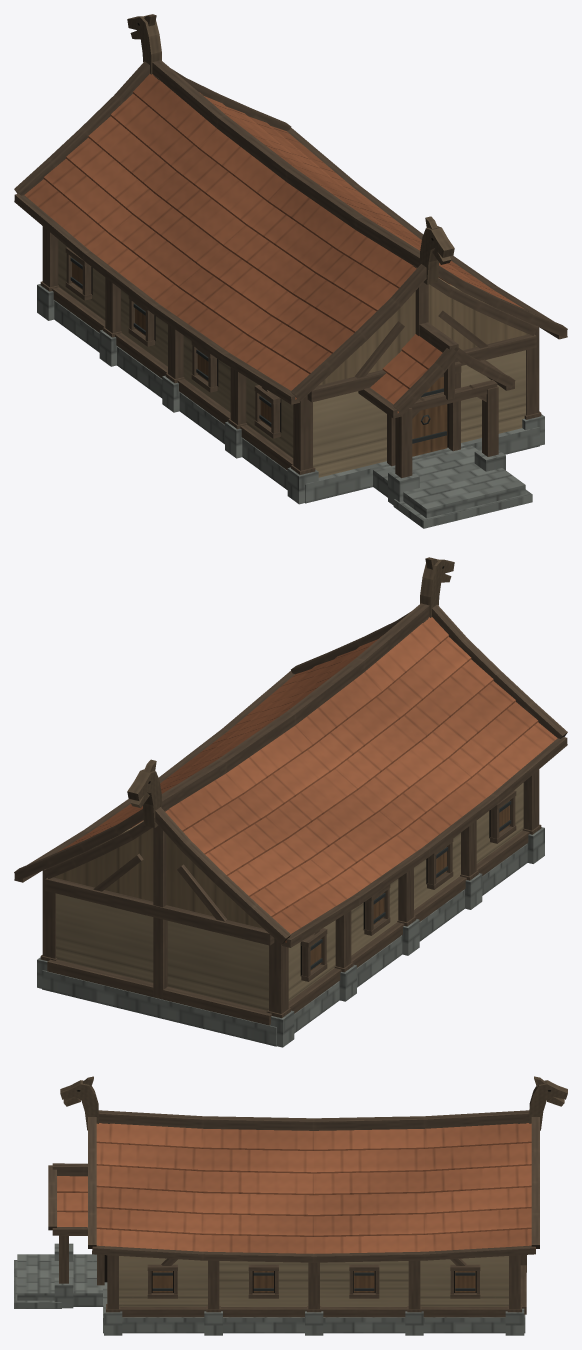
Rendered from longhouse.glb.
3 renders of one model, top to bottom at view 1: azimuth 30°, elevation 25°; view 2: azimuth 150°, elevation 25°; view 3: azimuth 270°, elevation 25°, orthographic. The views are drawn at different scales.
Parts seen in each view (by area): view 1: Longhouse; view 2: Longhouse; view 3: Longhouse.
Part boxes in pixels (box(x1,y1,x2,y2)): Longhouse: box(14, 14, 567, 528); Longhouse: box(14, 557, 567, 1047); Longhouse: box(14, 1076, 567, 1335).
Bounding box in the file's own units: 0.747 × 0.677 × 1.62.
Materials: 1 (1 with a texture image).
